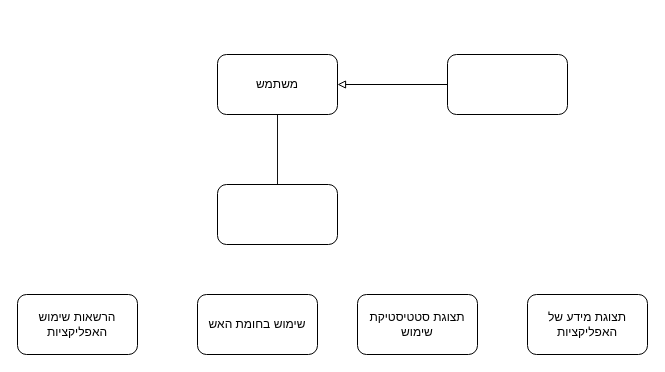
Some shapes in this 665 by 372 pixel diagram are drawn without their labels. Here are the shapes that lost their labels. From the top down, the box of each, then its label:
(446, 54, 568, 114): מנהל מערכת
(216, 184, 338, 244): CyberWall
